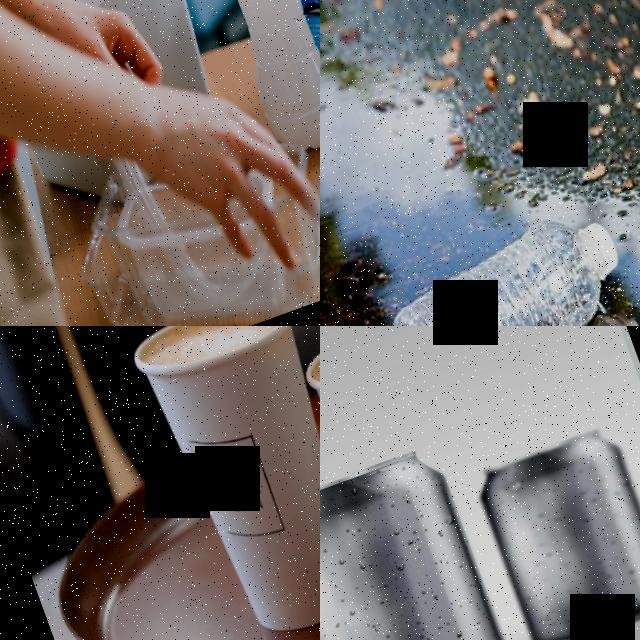bottle: (165, 0, 320, 163)
can: (320, 443, 518, 640), (472, 421, 640, 640)
cup: (125, 326, 320, 640)
